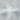plane: (1, 1, 19, 19)
